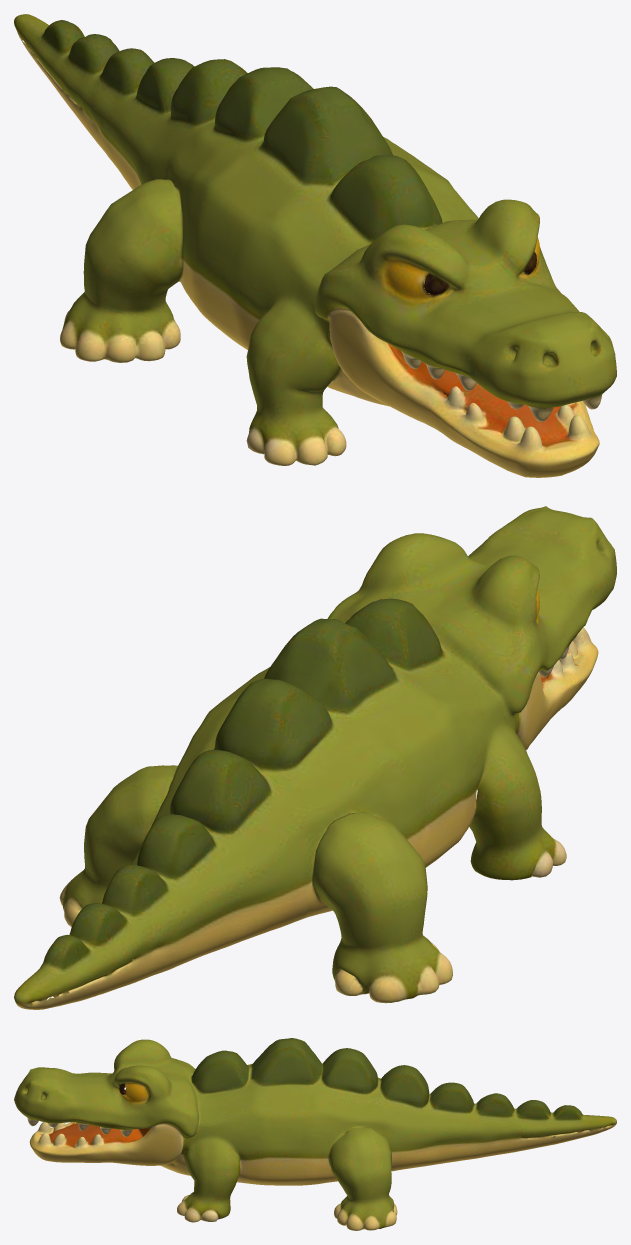
Rendered from n-croc.glb.
3 views of the same model, one above another, from view 1: azimuth 30°, elevation 25°; view 2: azimuth 150°, elevation 25°; view 3: azimuth 270°, elevation 25° (orthographic). The views are drawn at different scales.
Parts seen in each view (by area): view 1: tripo_node_cdd78848; view 2: tripo_node_cdd78848; view 3: tripo_node_cdd78848.
Part boxes in pixels (left/top/right/bottom): tripo_node_cdd78848: left=14, top=14, right=616, bottom=477; tripo_node_cdd78848: left=14, top=506, right=616, bottom=1009; tripo_node_cdd78848: left=14, top=1038, right=616, bottom=1230.
Size of the model in its own units: 0.3753 by 0.2589 by 0.9792.
1 material, 1 textured.
